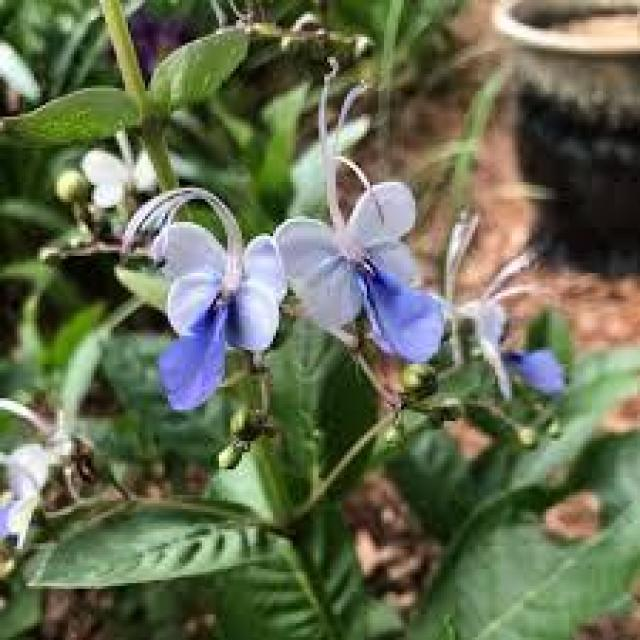organic waste: (284, 184, 461, 388), (144, 223, 283, 383)
